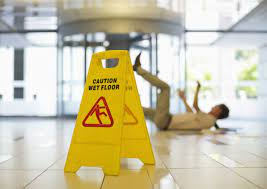wet caution sign: (69, 41, 142, 170)
